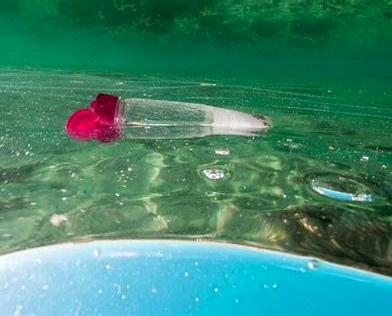Plastic: (115, 93, 274, 131)
